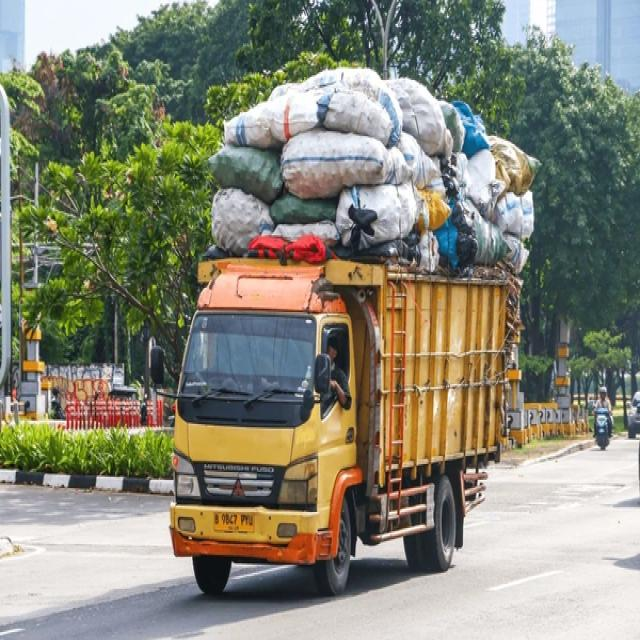mitsubishi: (230, 477, 248, 503)
